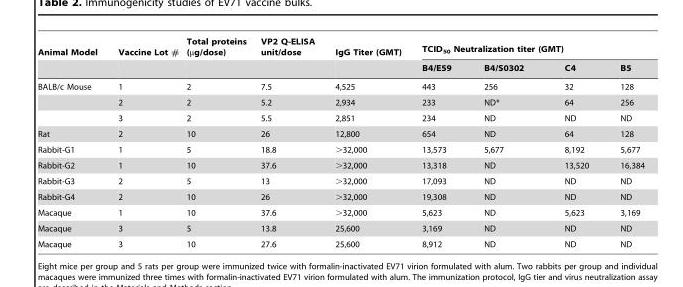table: (37, 36, 643, 248)
table column: (324, 36, 411, 248), (467, 36, 543, 248), (107, 36, 182, 248), (252, 36, 324, 248), (37, 36, 107, 248), (182, 36, 252, 248), (543, 36, 603, 248), (411, 36, 467, 248), (603, 36, 643, 248)
table column header: (37, 36, 643, 77)
table row: (37, 36, 643, 59), (37, 59, 643, 77), (37, 77, 643, 94), (37, 94, 643, 110), (37, 125, 643, 141), (37, 141, 643, 157), (37, 157, 643, 173), (37, 188, 643, 204), (37, 204, 643, 220), (37, 220, 643, 236), (37, 110, 643, 125), (37, 173, 643, 188), (37, 236, 643, 248)
table spanning cell: (411, 36, 643, 59), (324, 36, 411, 77), (37, 77, 107, 125), (107, 36, 182, 77), (252, 36, 324, 77), (37, 36, 107, 77), (182, 36, 252, 77)
